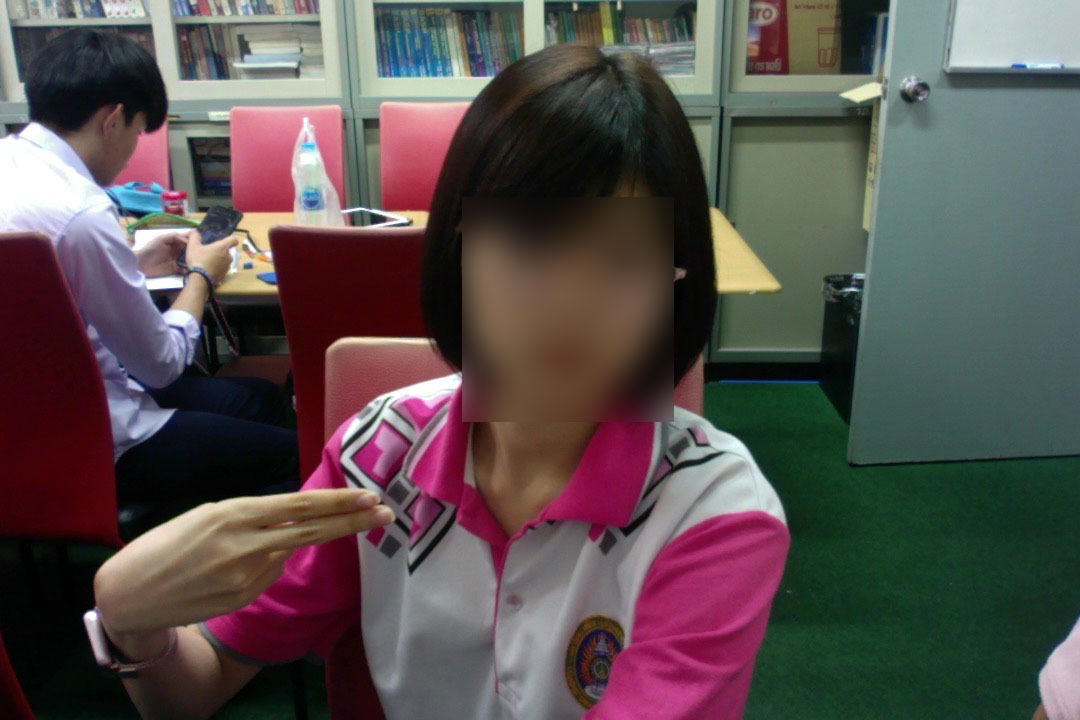hor: (82, 467, 400, 636)
